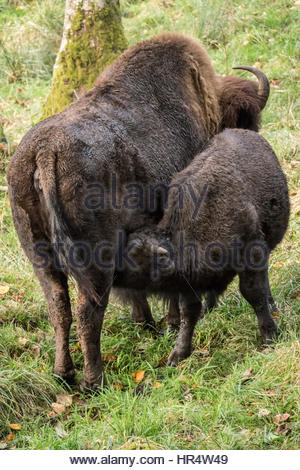yak: (7, 33, 271, 405), (122, 125, 290, 369)
